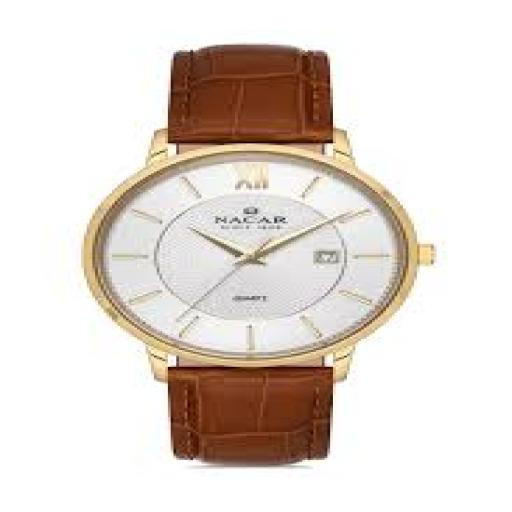KolSaati: (28, 26, 459, 482)
